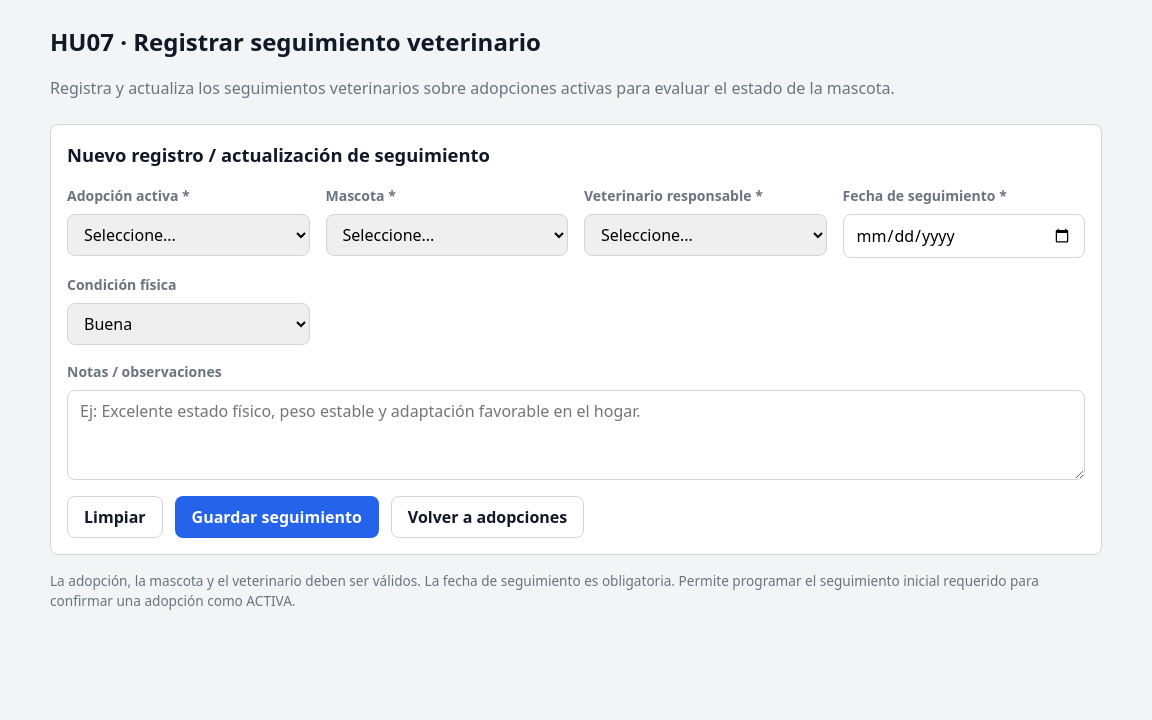
Test: HU07 - FollowUpForm › valida campos obligatorios antes de enviar
Expected: the dropdown labelled "Adopción activa *" is shown, [67,214,310,256]
What coordinates should you click on to do the following:
click the button "Guardar seguimiento"
I would click on:
 (277, 517)
Its box is [175,496,379,538].
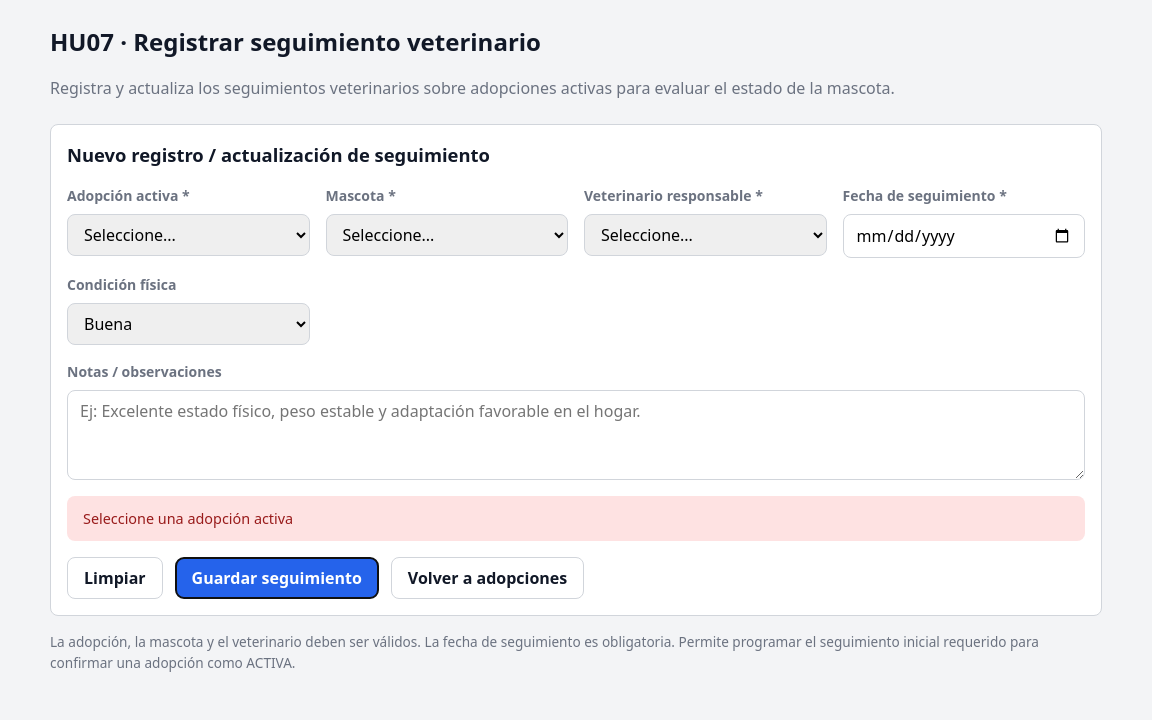
Expected: the message shows "Seleccione una adopción", [83,509,293,528]
